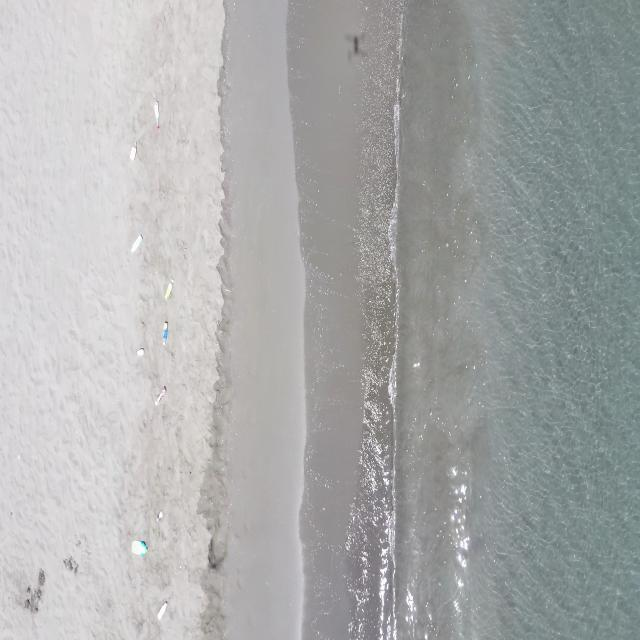Garbage: (24, 569, 44, 612), (131, 540, 147, 555), (156, 600, 167, 620), (63, 555, 75, 572), (155, 387, 166, 404), (163, 279, 172, 299), (131, 233, 140, 252), (161, 320, 167, 344), (154, 100, 159, 128), (129, 143, 136, 160), (156, 511, 163, 520), (412, 360, 420, 367), (136, 348, 143, 355)
